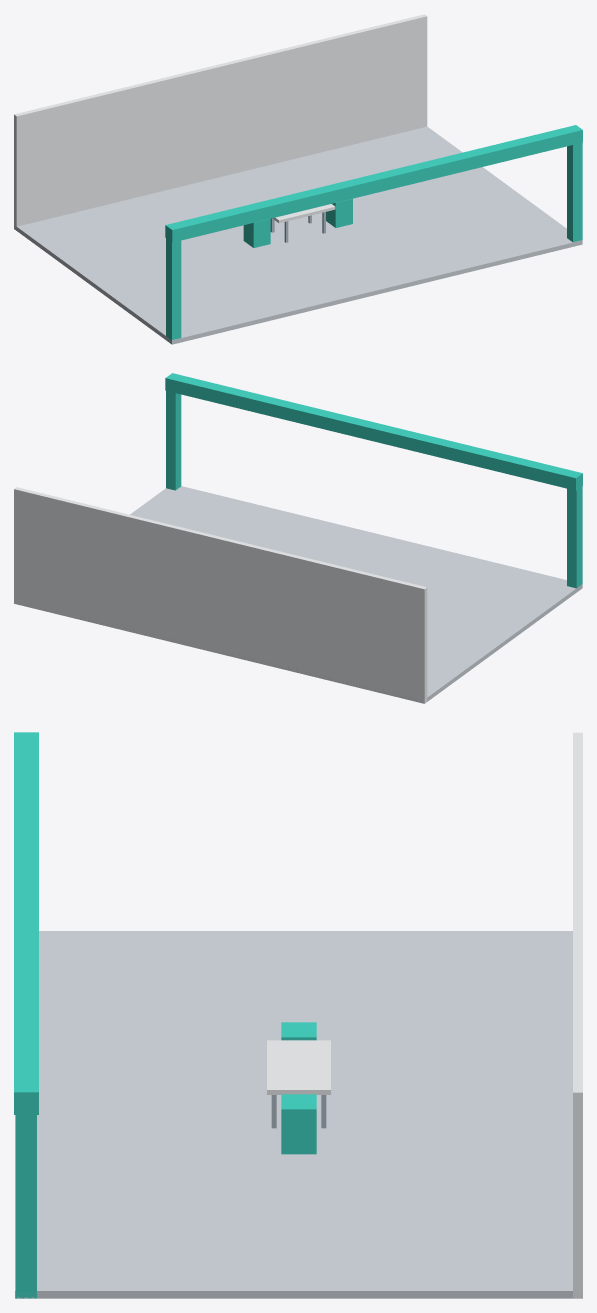
3 views of the same model, one above another, from view 1: azimuth 30°, elevation 25°; view 2: azimuth 150°, elevation 25°; view 3: azimuth 270°, elevation 25° (orthographic). The views are drawn at different scales.
Parts seen in each view (by area): view 1: Exhibition Booth Concept; view 2: Exhibition Booth Concept; view 3: Exhibition Booth Concept.
Boxes of the visible parts, <box> form: Exhibition Booth Concept: <box>14,14,582,344</box>; Exhibition Booth Concept: <box>14,373,582,703</box>; Exhibition Booth Concept: <box>14,732,582,1298</box>.
Bounding box in the file's own units: 12 × 3.2 × 8.01.
